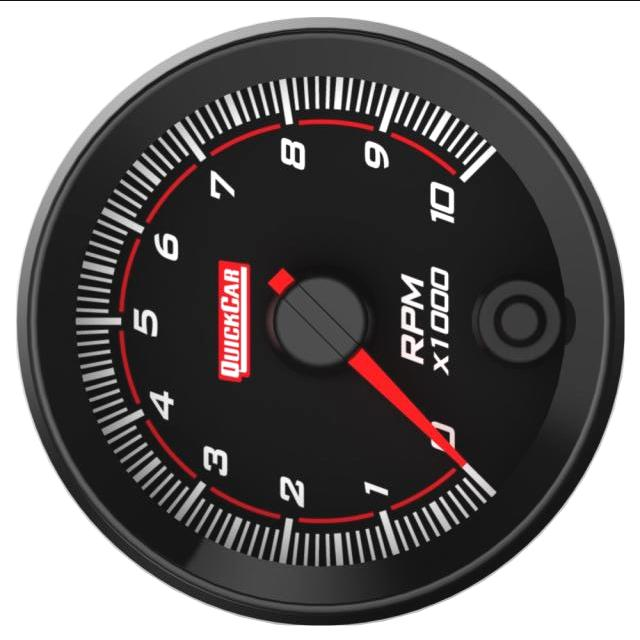Needle_Tip: (429, 407, 492, 511)
Needle_base: (249, 230, 381, 397)
max_value: (406, 164, 481, 238)
min_value: (406, 384, 480, 481)
